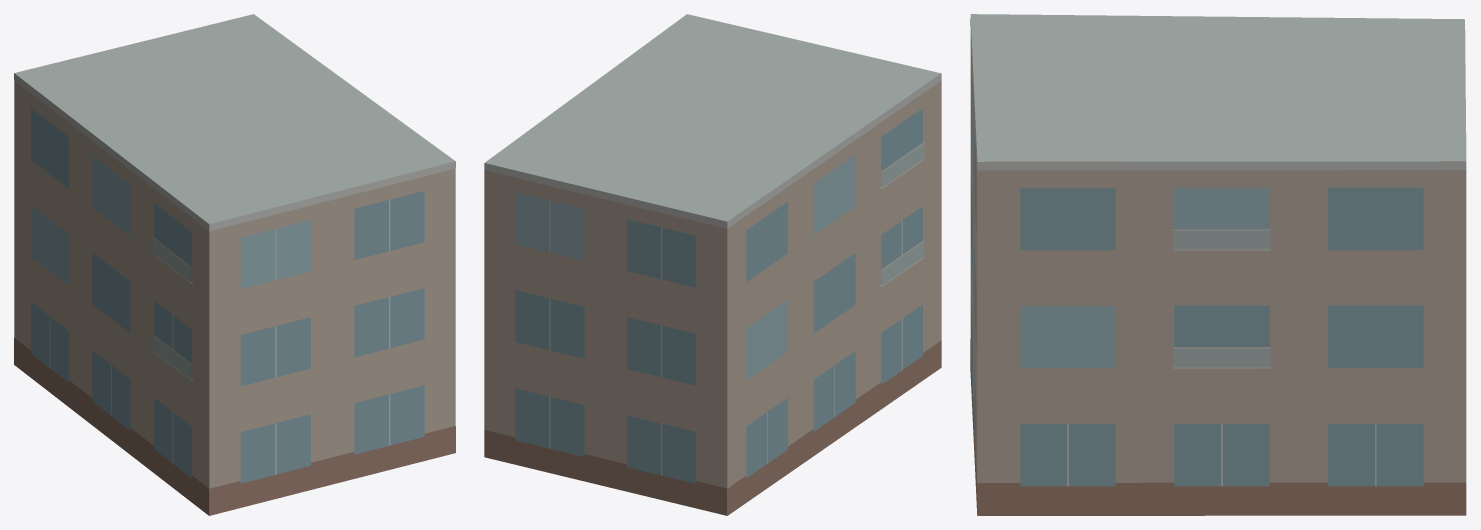
Rendered from survey-upis-32908820.glb.
3 renders of one model, left to right at view 1: azimuth 30°, elevation 25°; view 2: azimuth 150°, elevation 25°; view 3: azimuth 270°, elevation 25°, orthographic. The views are drawn at different scales.
Parts seen in each view (by area): view 1: survey-upis-32908820.tmp; view 2: survey-upis-32908820.tmp; view 3: survey-upis-32908820.tmp.
Boxes of the visible parts, x1,y1,x2,y2 form: survey-upis-32908820.tmp: (14,14,455,515); survey-upis-32908820.tmp: (484,14,941,515); survey-upis-32908820.tmp: (970,14,1466,515).
Bounding box in the file's own units: 8.99 × 10 × 12.71.
